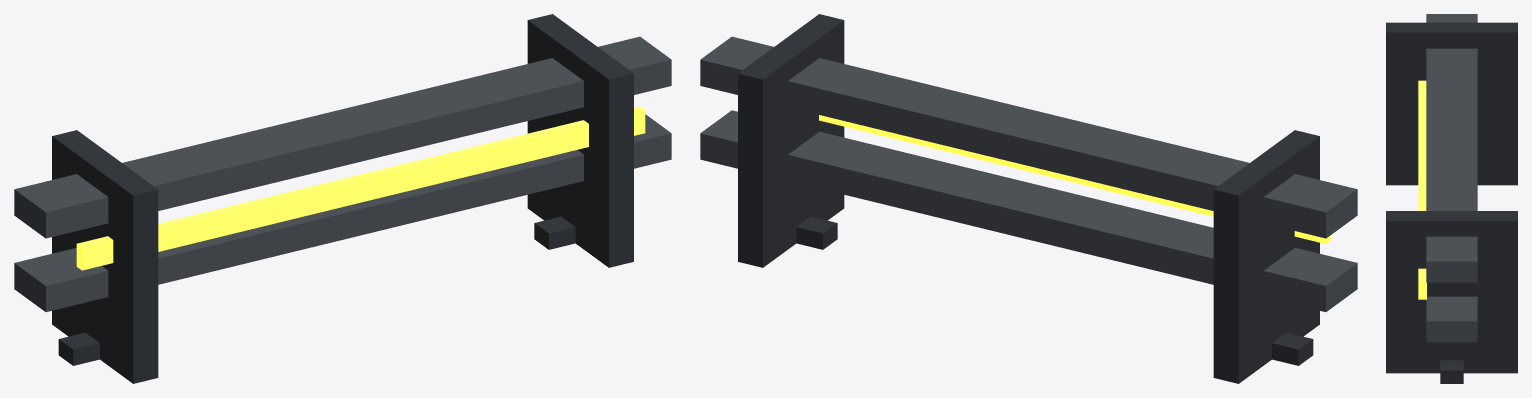
The model's file is barricade.glb.
The picture shows the model from 3 angles, left to right: view 1: azimuth 30°, elevation 25°; view 2: azimuth 150°, elevation 25°; view 3: azimuth 270°, elevation 25°; orthographic projection. The views are drawn at different scales.
Visible parts, largest first — view 1: barricade; view 2: barricade; view 3: barricade.
Boxes of the visible parts, x1,y1,x2,y2 form: barricade: (14, 14, 671, 383); barricade: (700, 14, 1357, 383); barricade: (1386, 14, 1517, 383).
Bounding box in the file's own units: 4 × 1.15 × 0.9.
